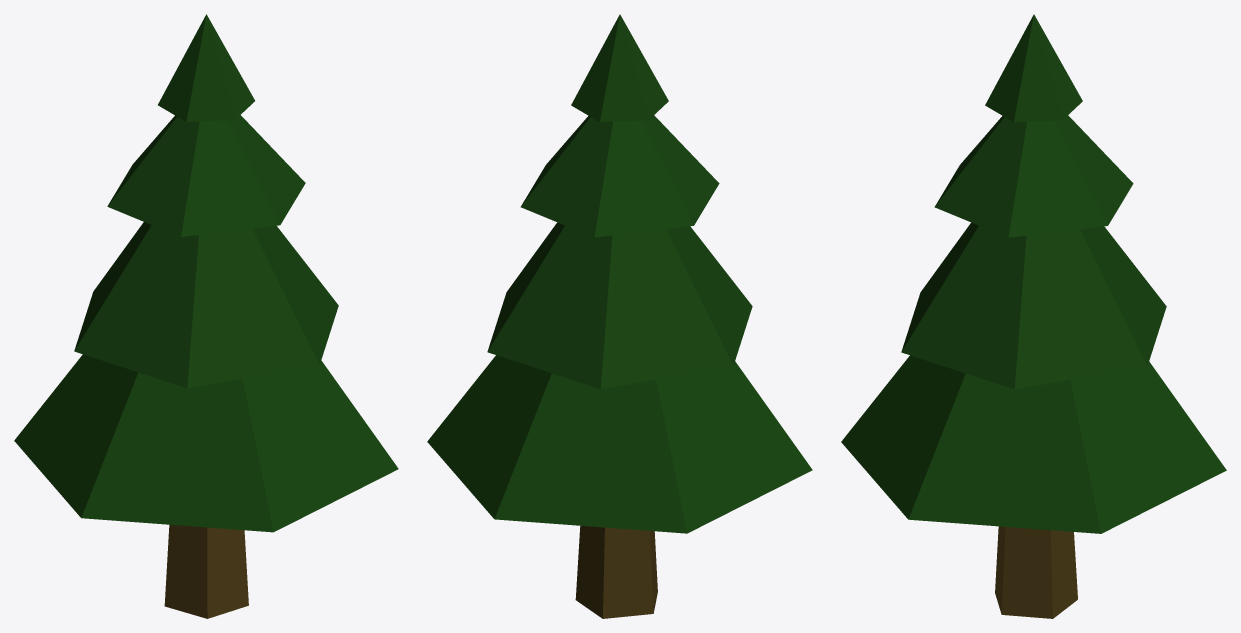
The model's file is PinPin.fbx.
3 renders of one model, left to right at view 1: azimuth 30°, elevation 25°; view 2: azimuth 150°, elevation 25°; view 3: azimuth 270°, elevation 25°, orthographic.
Parts seen in each view (by area): view 1: Cylinder.003; view 2: Cylinder.003; view 3: Cylinder.003.
Boxes of the visible parts, bbox=[...] form: Cylinder.003: bbox=[14, 14, 398, 618]; Cylinder.003: bbox=[427, 14, 812, 618]; Cylinder.003: bbox=[841, 14, 1226, 618].
Size of the model in its own units: 1531 by 2700 by 1606.
